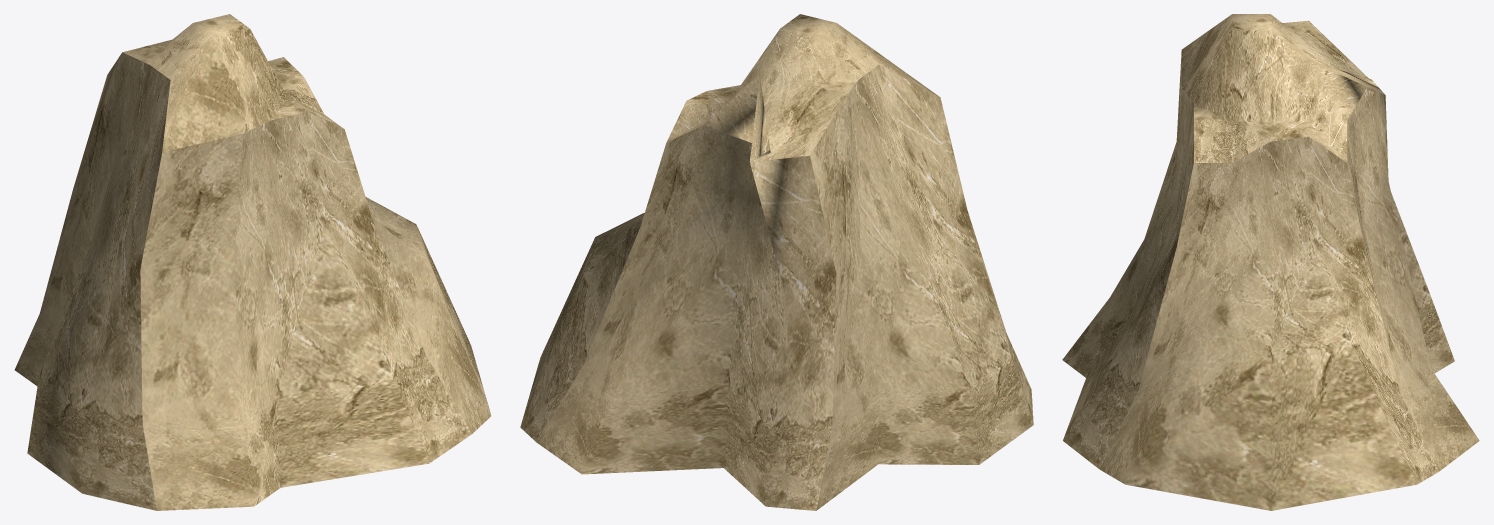
The model's file is geo_desert_04.dae.
3 views of the same model, side by side, from view 1: azimuth 30°, elevation 25°; view 2: azimuth 150°, elevation 25°; view 3: azimuth 270°, elevation 25° (orthographic). The views are drawn at different scales.
Parts seen in each view (by area): view 1: Box01; view 2: Box01; view 3: Box01.
Boxes of the visible parts, x1,y1,x2,y2 form: Box01: [14, 14, 491, 510]; Box01: [520, 14, 1033, 510]; Box01: [1062, 14, 1479, 510].
Bounding box in the file's own units: 19.16 × 16.56 × 16.13.
